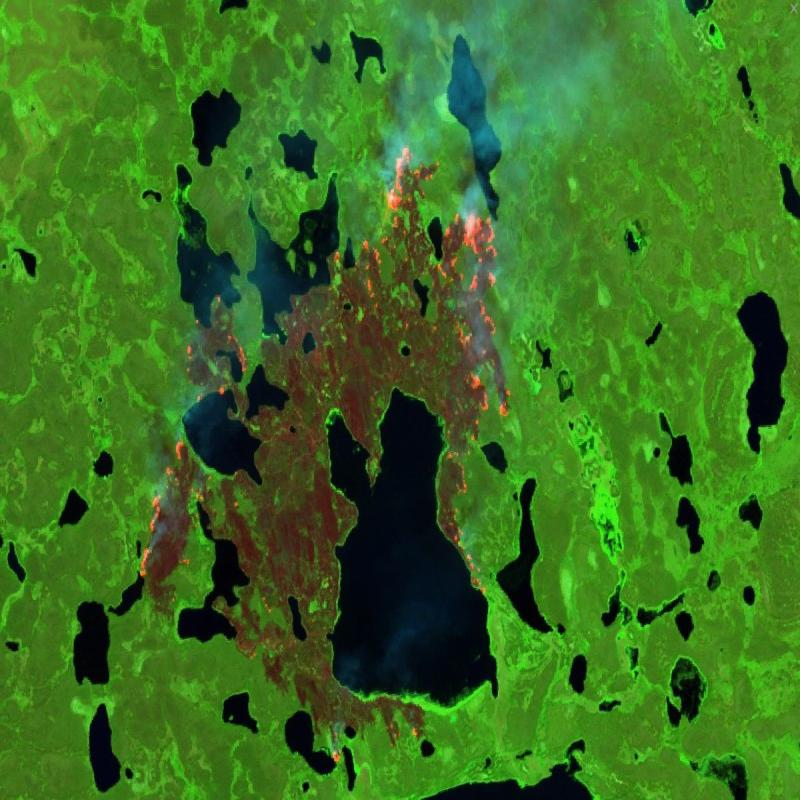fire: (131, 138, 516, 586)
